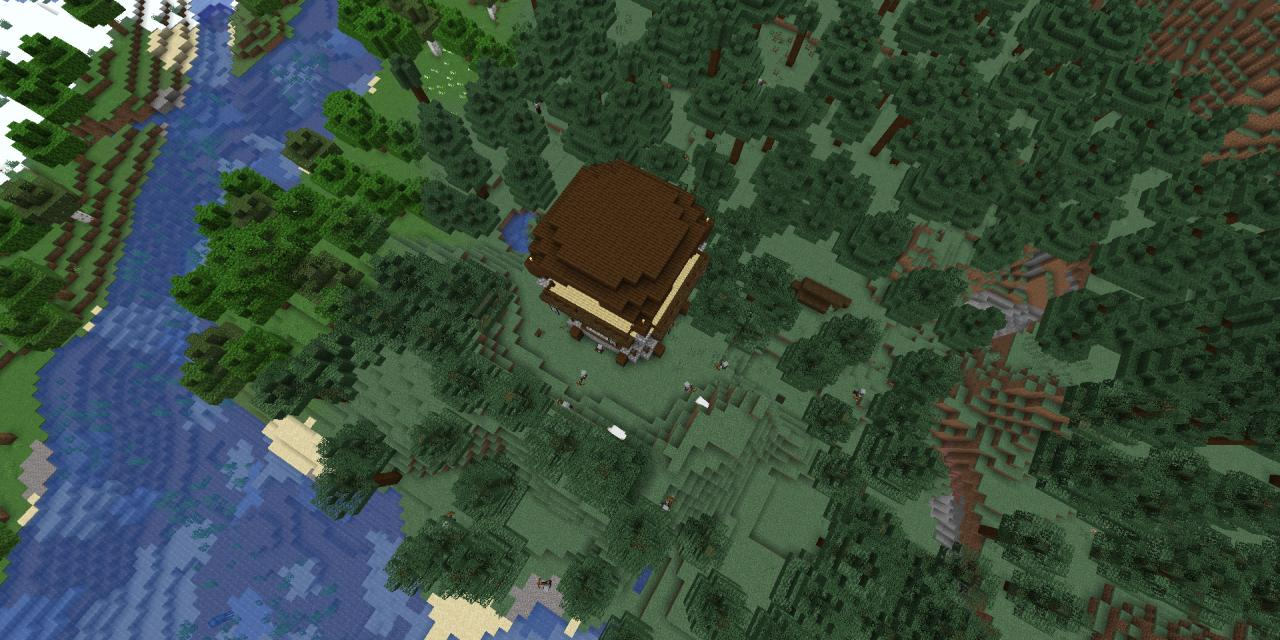pillager outpost: (526, 141, 720, 380)
